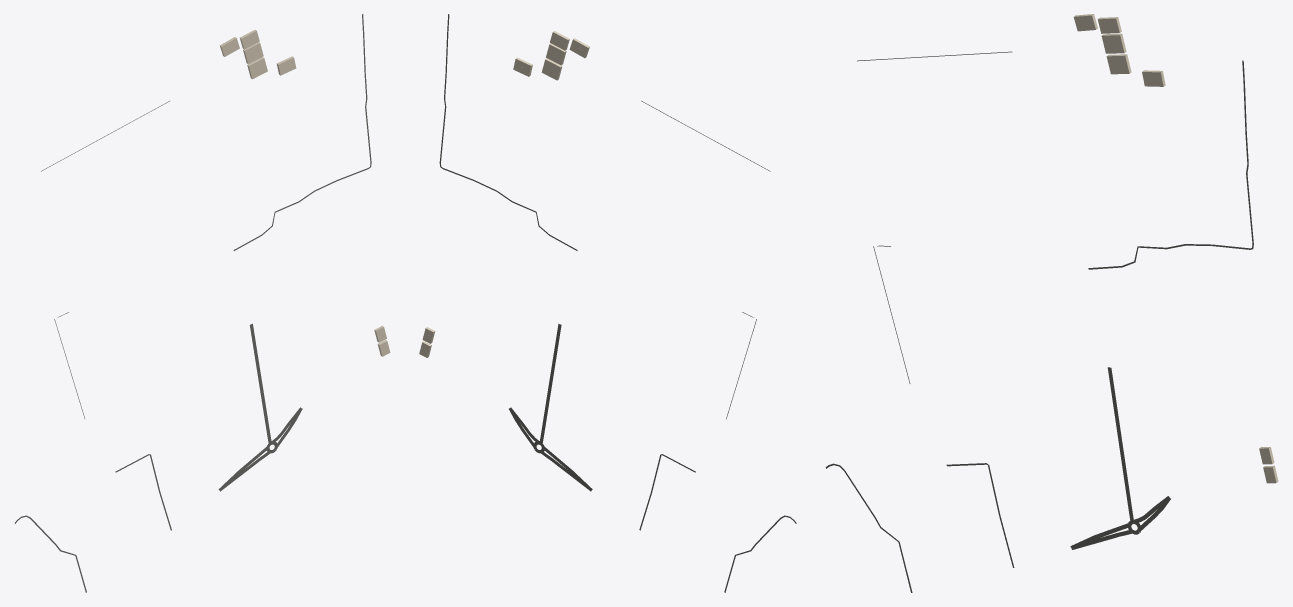
Rendered from historic-palestine-11_30_3526_3243.glb.
The picture shows the model from 3 angles, left to right: view 1: azimuth 30°, elevation 25°; view 2: azimuth 150°, elevation 25°; view 3: azimuth 330°, elevation 25°; orthographic projection. The views are drawn at different scales.
Parts seen in each view (by area): view 1: Road .002; view 2: Road .002; view 3: Road .002, Road .001.
Boxes of the visible parts, left/top/right/bottom form: Road .002: left=233, top=14, right=371, bottom=250; Road .002: left=439, top=14, right=577, bottom=250; Road .002: left=1088, top=60, right=1253, bottom=269; Road .001: left=1107, top=367, right=1133, bottom=520.
Size of the model in its own units: 952 by 1260 by 8.7.
